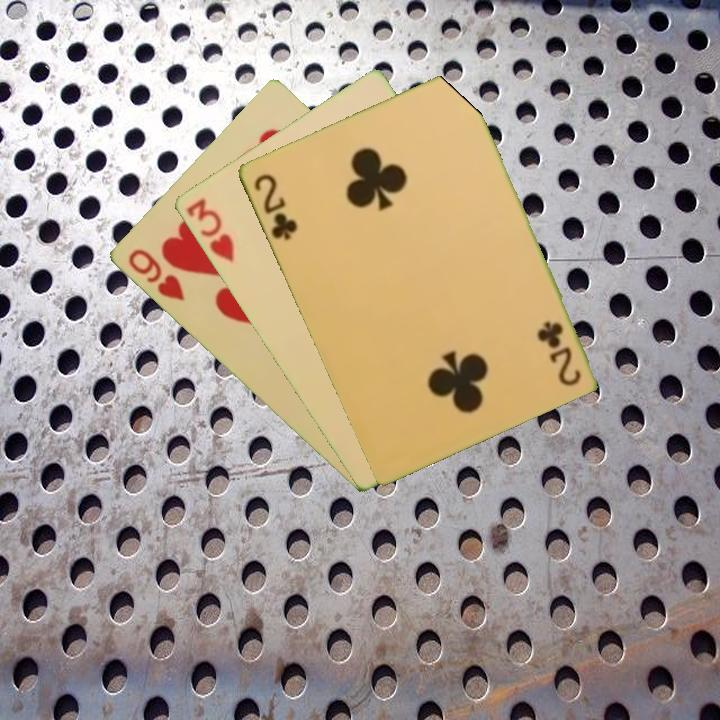2c: (249, 170, 300, 243), (536, 317, 584, 389)
3h: (182, 194, 237, 265)
9h: (123, 245, 187, 304)
